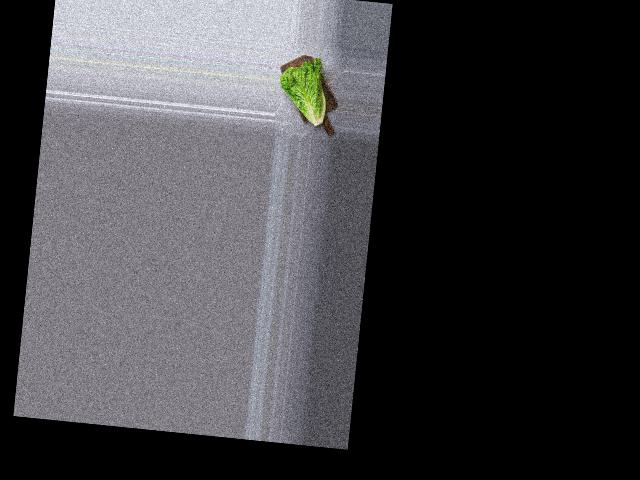lettuce: (276, 54, 338, 130)
